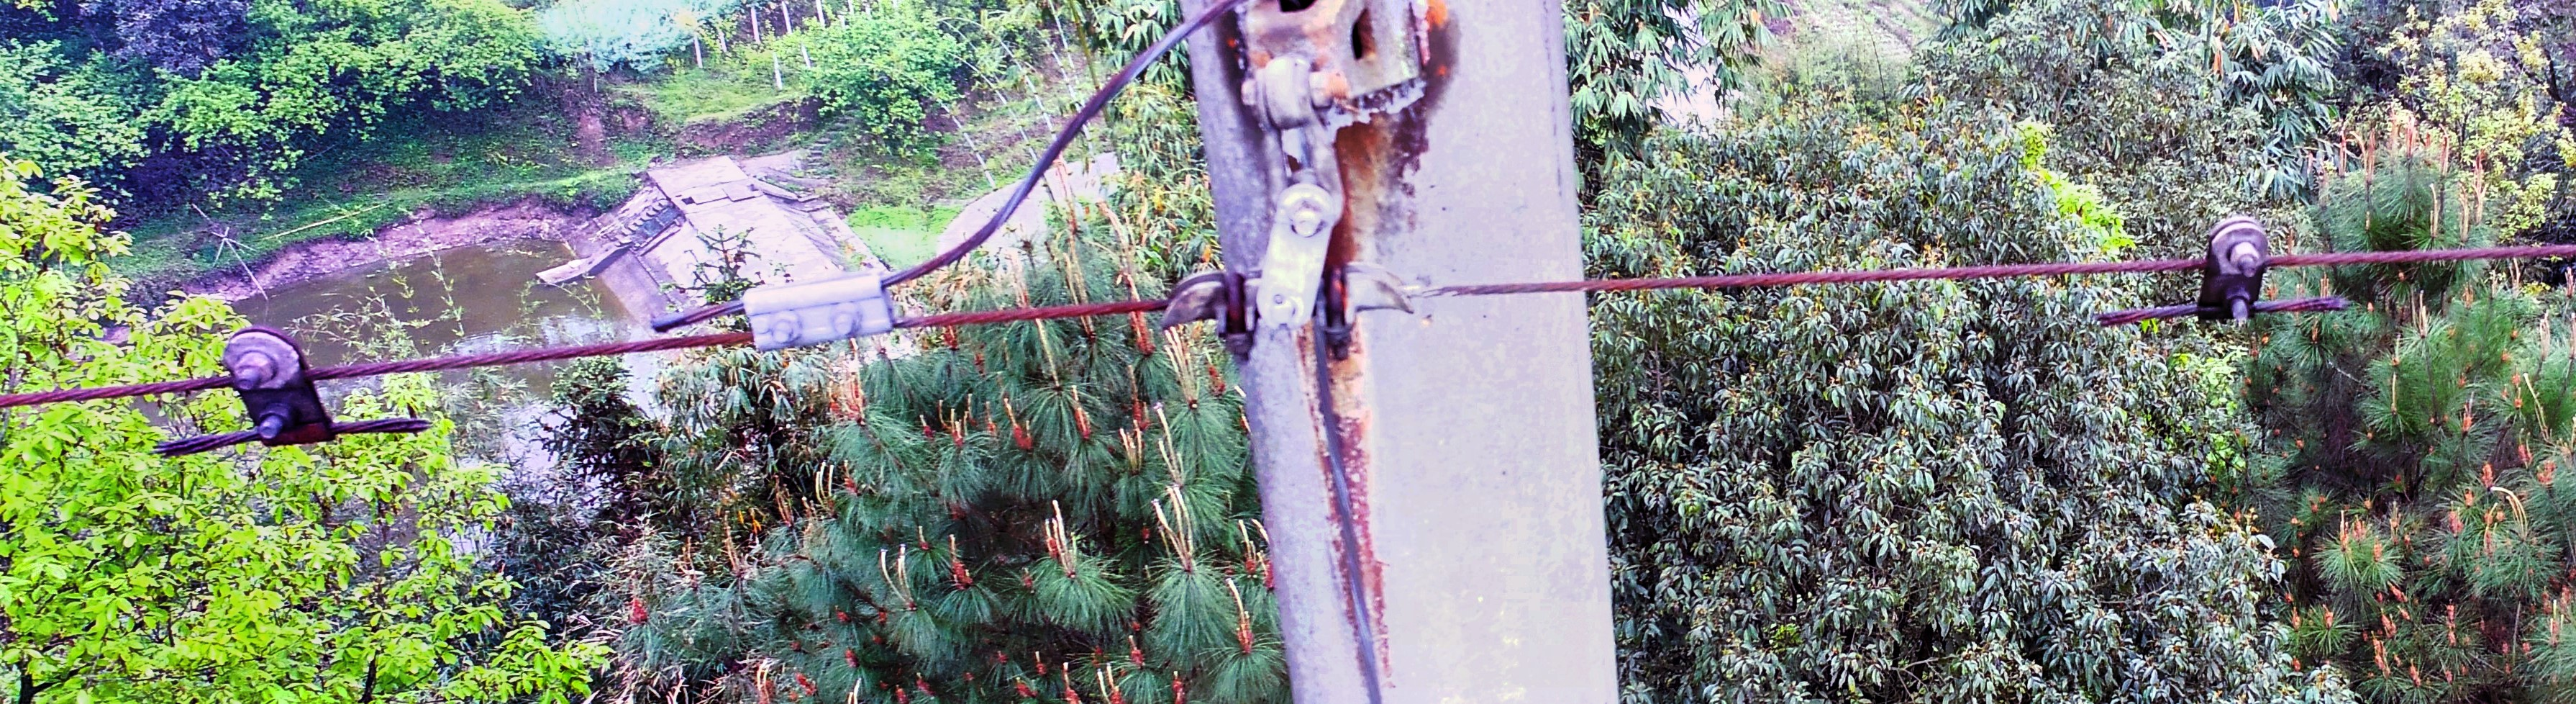Damage of shockproof hammer: (138, 299, 448, 480), (2101, 207, 2354, 349)
